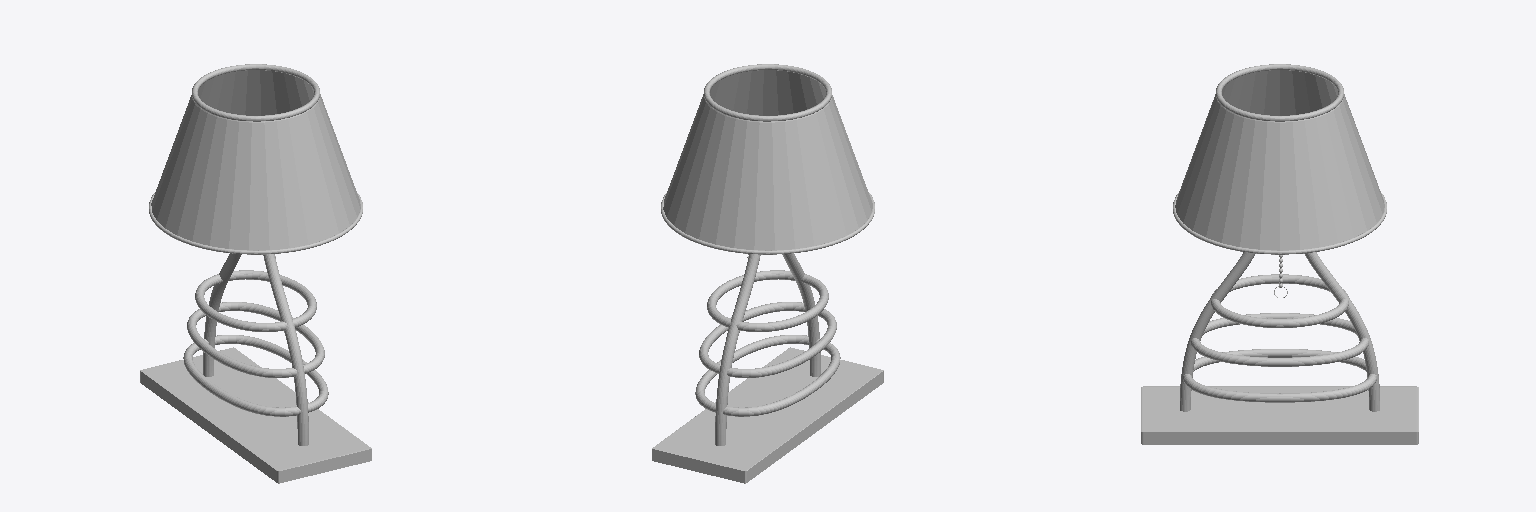
The model's file is Lamp.obj.
3 views of the same model, side by side, from view 1: azimuth 30°, elevation 25°; view 2: azimuth 150°, elevation 25°; view 3: azimuth 270°, elevation 25° (orthographic).
Parts seen in each view (by area): view 1: Cilindro_Cilindro.001, Cubo, Percorso_Nurbs_Mesh, Cerchio_Bezier.001_Mesh.006, Cerchio_Bezier_Mesh.005; view 2: Cilindro_Cilindro.001, Cubo, Percorso_Nurbs_Mesh, Cerchio_Bezier.001_Mesh.006, Cerchio_Bezier_Mesh.005; view 3: Cilindro_Cilindro.001, Cubo, Percorso_Nurbs_Mesh, Cerchio_Bezier.001_Mesh.006, Cerchio_Bezier_Mesh.005.
Boxes of the visible parts, x1=… form: Cilindro_Cilindro.001: x1=151, y1=70, x2=360, y2=250; Cubo: x1=140, y1=347, x2=371, y2=483; Percorso_Nurbs_Mesh: x1=183, y1=253, x2=328, y2=445; Cerchio_Bezier.001_Mesh.006: x1=192, y1=64, x2=319, y2=121; Cerchio_Bezier_Mesh.005: x1=149, y1=193, x2=362, y2=254; Cilindro_Cilindro.001: x1=663, y1=70, x2=872, y2=250; Cubo: x1=652, y1=347, x2=883, y2=483; Percorso_Nurbs_Mesh: x1=695, y1=253, x2=840, y2=445; Cerchio_Bezier.001_Mesh.006: x1=704, y1=64, x2=831, y2=121; Cerchio_Bezier_Mesh.005: x1=661, y1=193, x2=874, y2=254; Cilindro_Cilindro.001: x1=1175, y1=70, x2=1384, y2=250; Cubo: x1=1141, y1=386, x2=1418, y2=444; Percorso_Nurbs_Mesh: x1=1180, y1=252, x2=1379, y2=411; Cerchio_Bezier.001_Mesh.006: x1=1216, y1=64, x2=1343, y2=121; Cerchio_Bezier_Mesh.005: x1=1173, y1=193, x2=1386, y2=254.
Bounding box in the file's own units: 3.4 × 5.78 × 4.38.